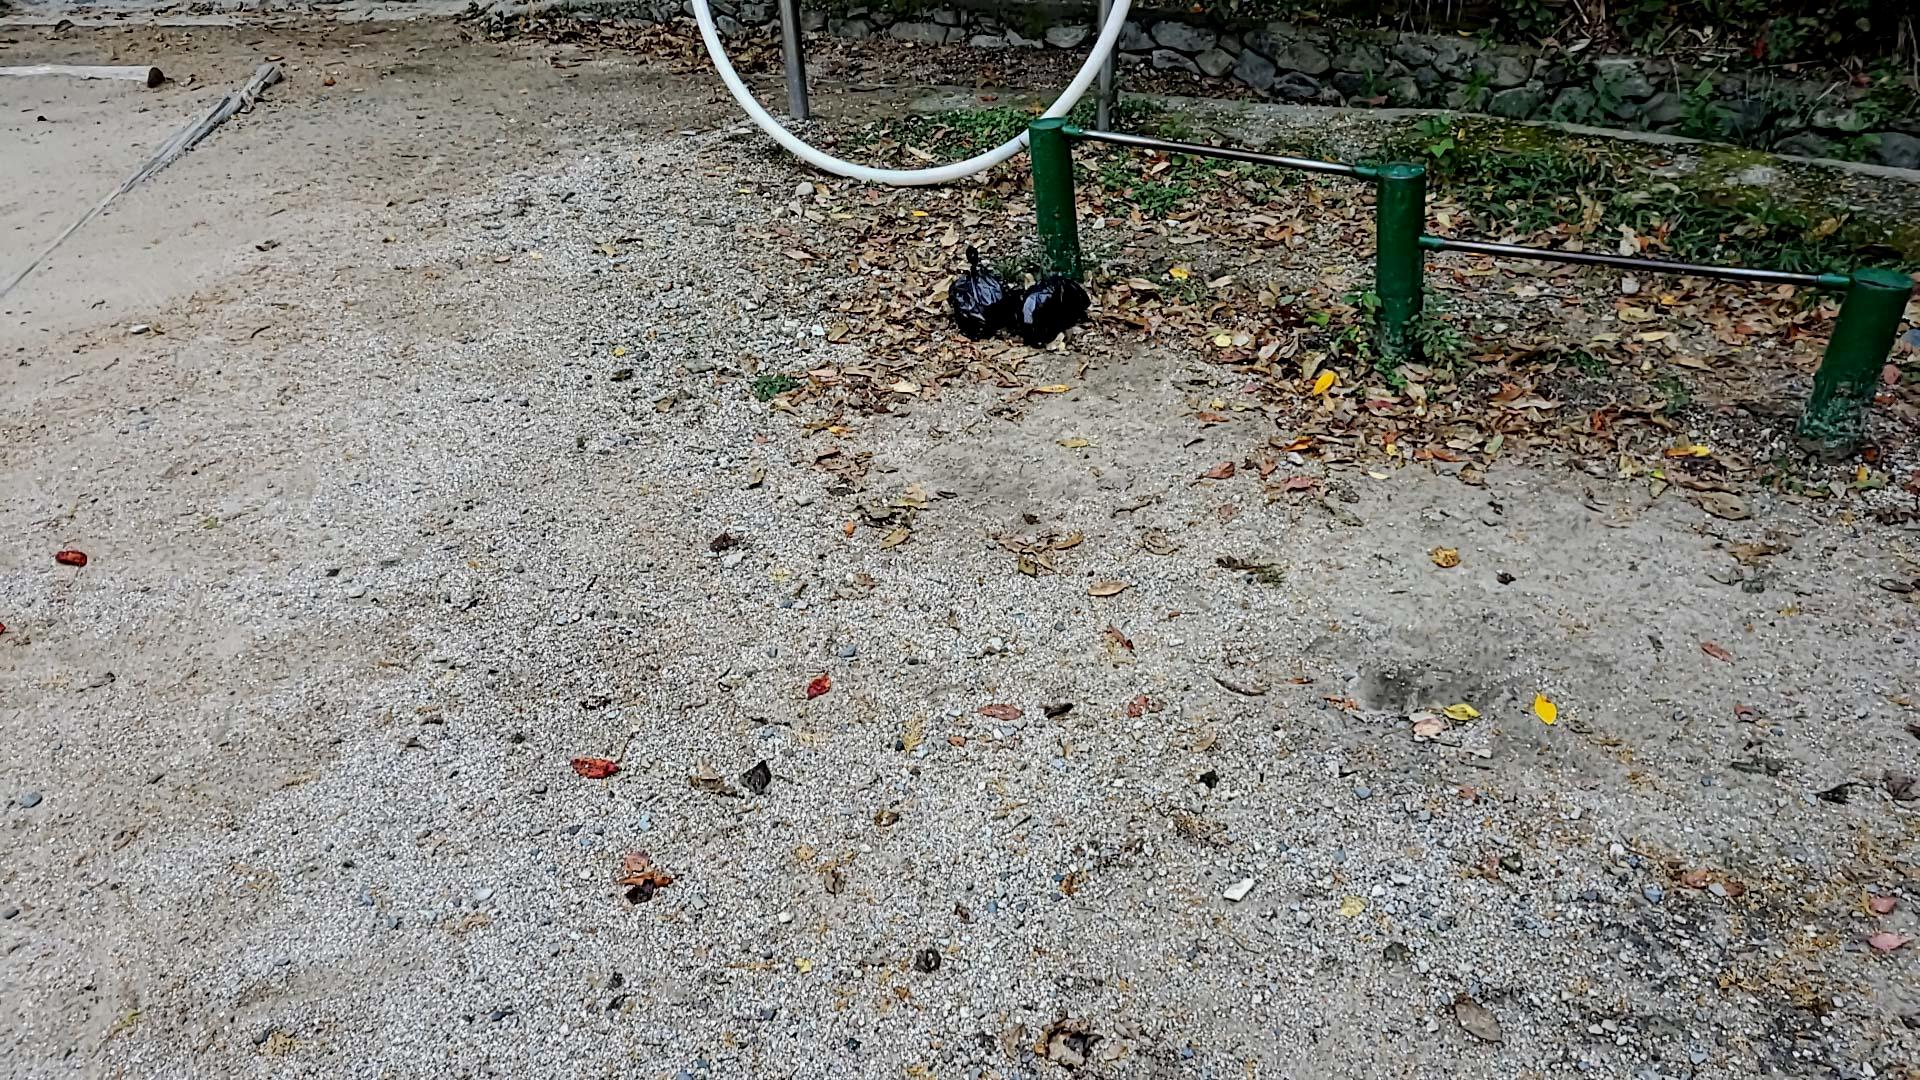black_bag: (942, 247, 1021, 340), (1009, 273, 1093, 348)
